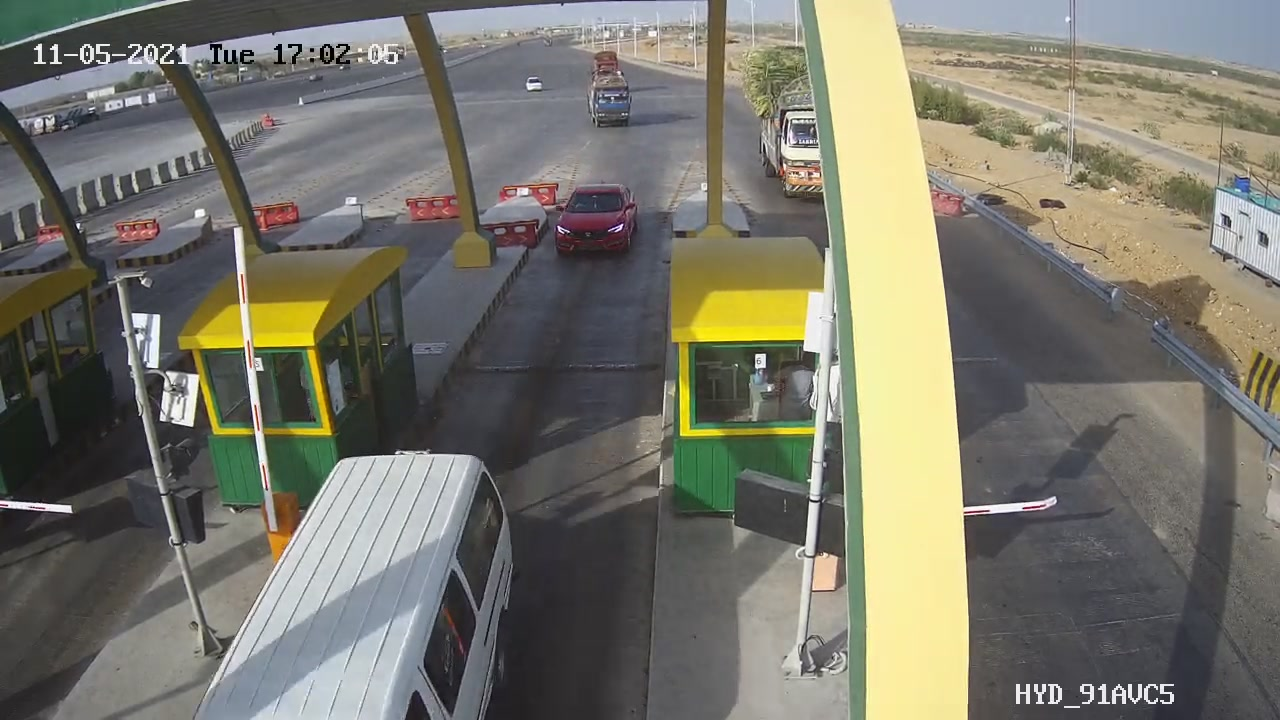F1: (542, 175, 660, 270)
